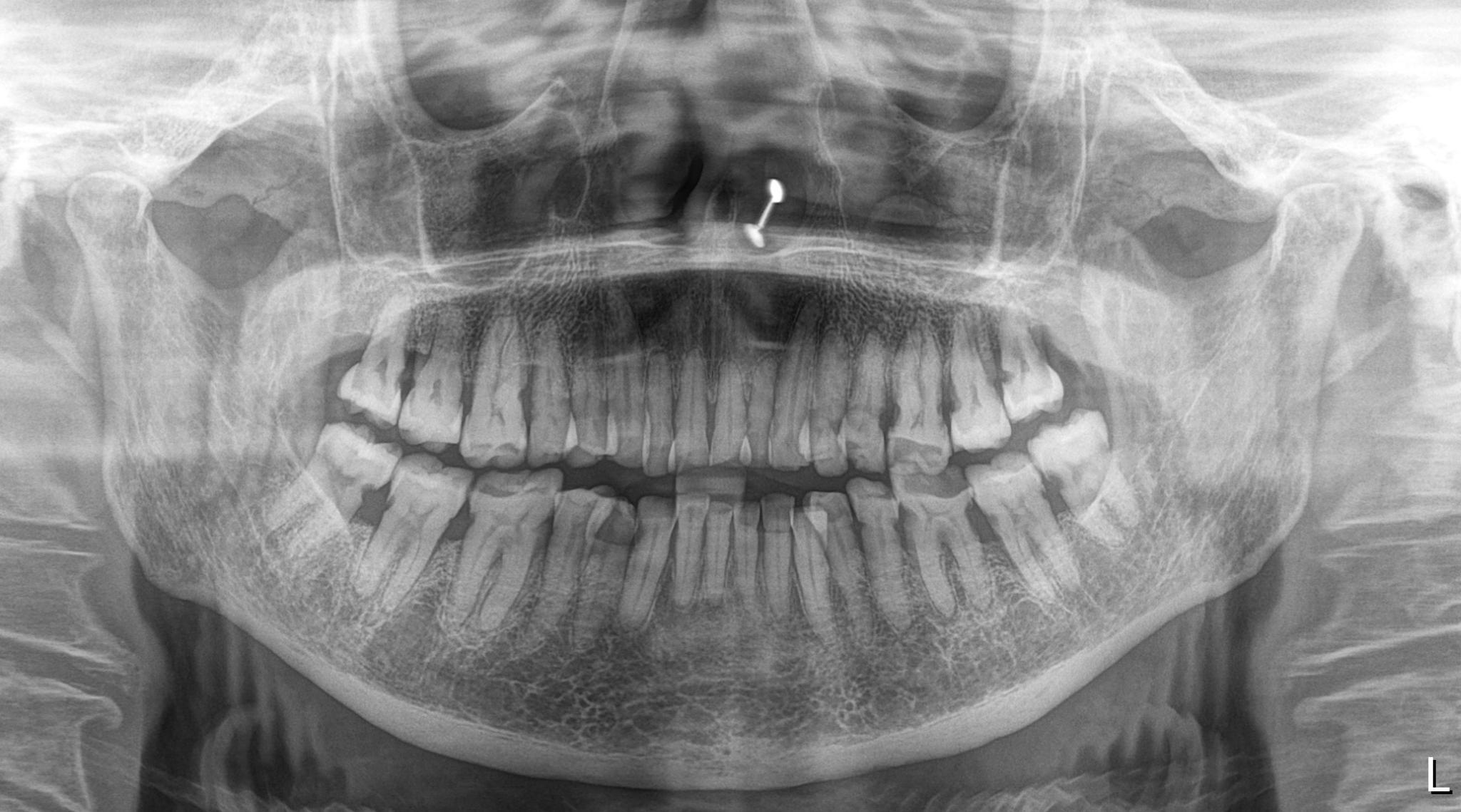Impacted Third Molar: (272, 419, 389, 564), (1038, 435, 1146, 550)
